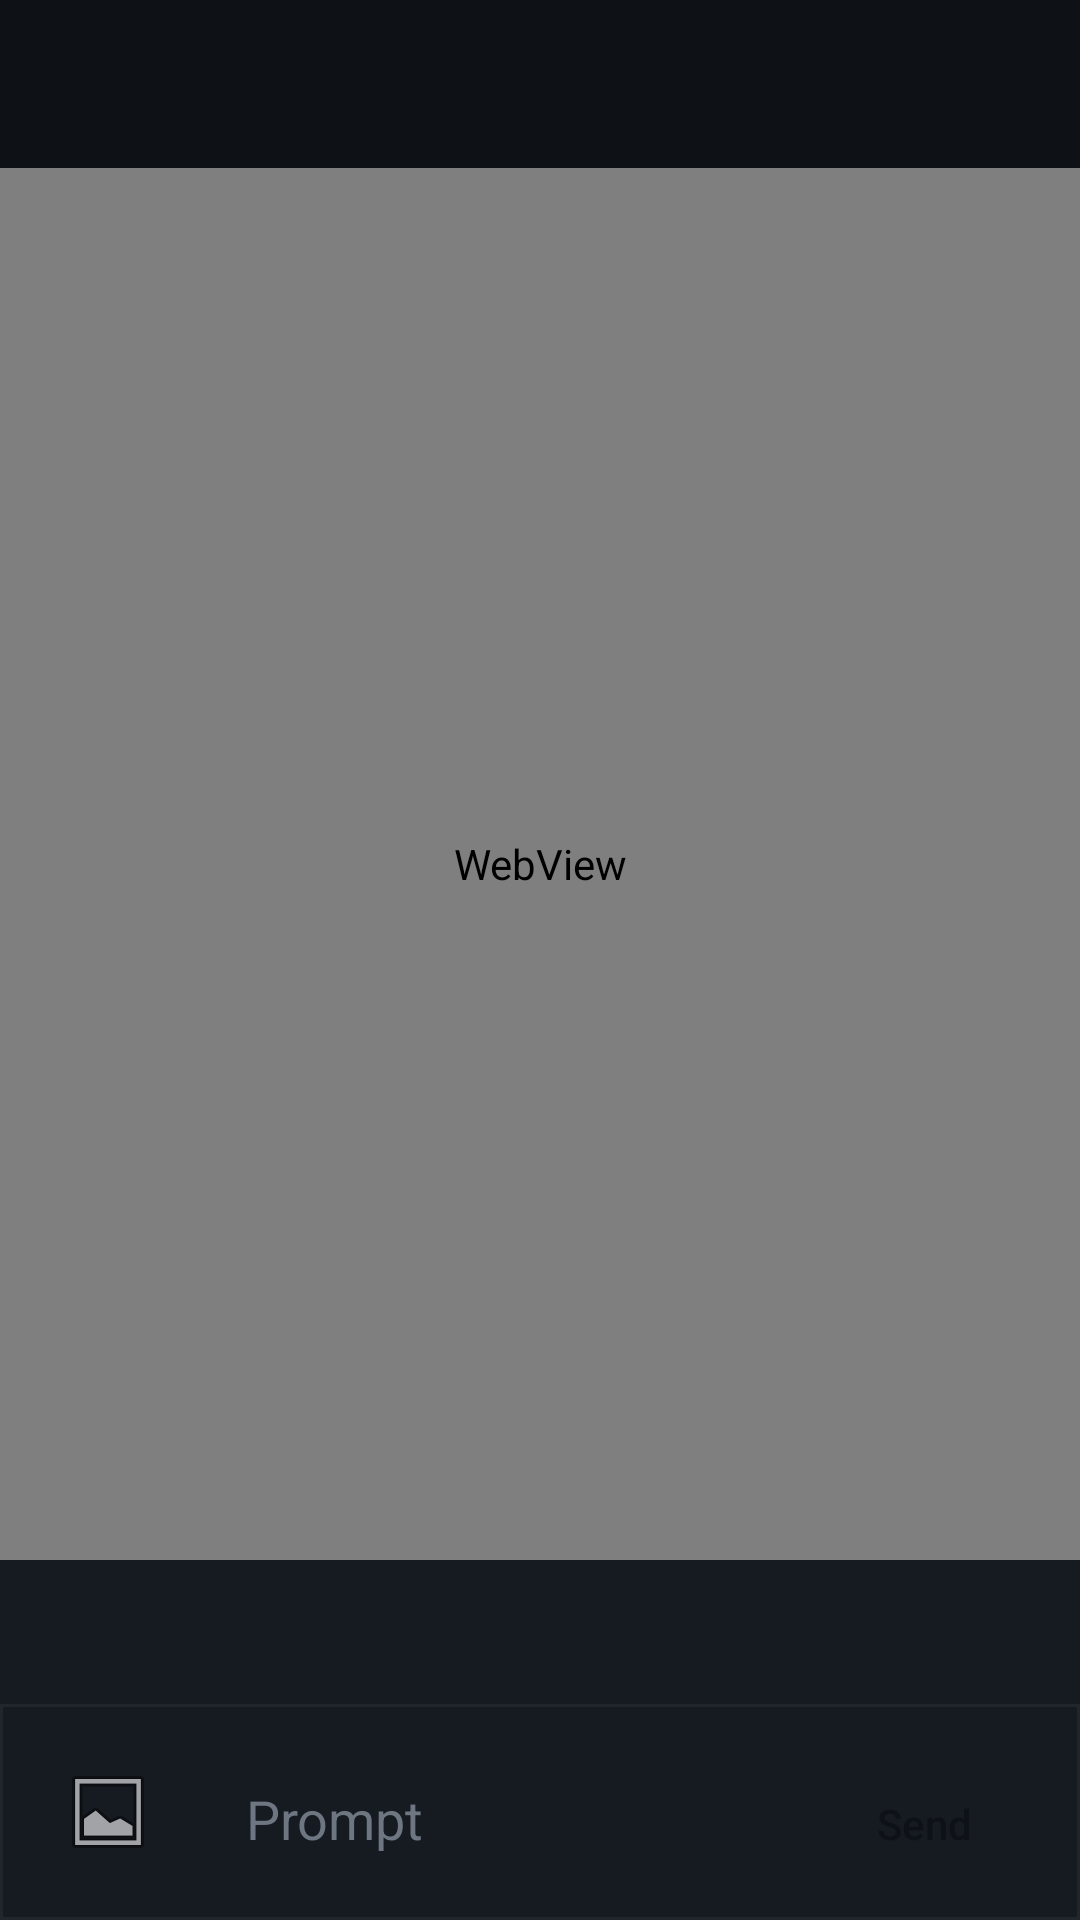

Icon click points for this 1080px×1920px phone screenshot, format point (x, y):
Attach an image: point (108, 1812)
